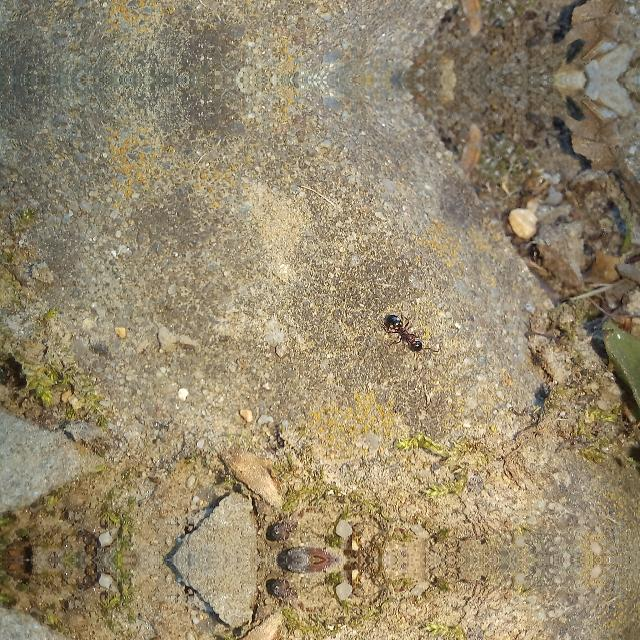Dolichoderus: (375, 308, 433, 358)
